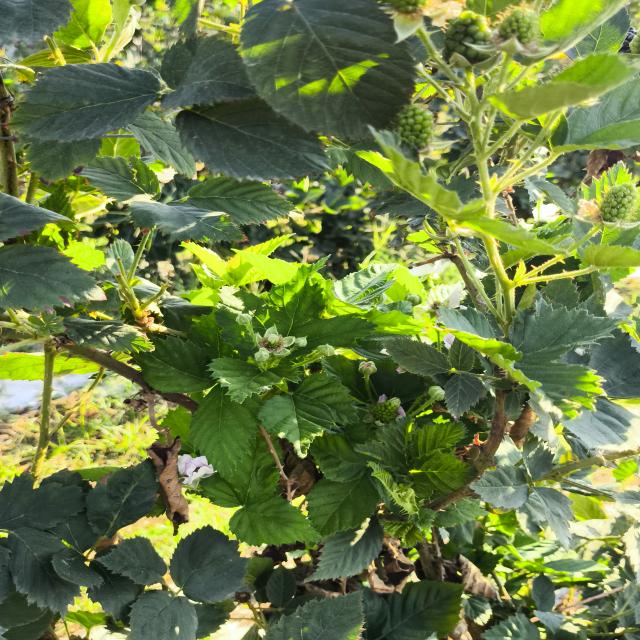boton: (358, 361, 377, 376), (428, 385, 445, 401), (316, 344, 335, 357), (254, 347, 270, 362), (236, 313, 251, 326), (293, 337, 307, 347)
flor: (178, 454, 216, 488)
